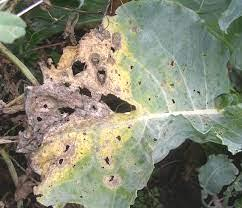Bok-Choy-Diseased: (25, 16, 175, 203)
